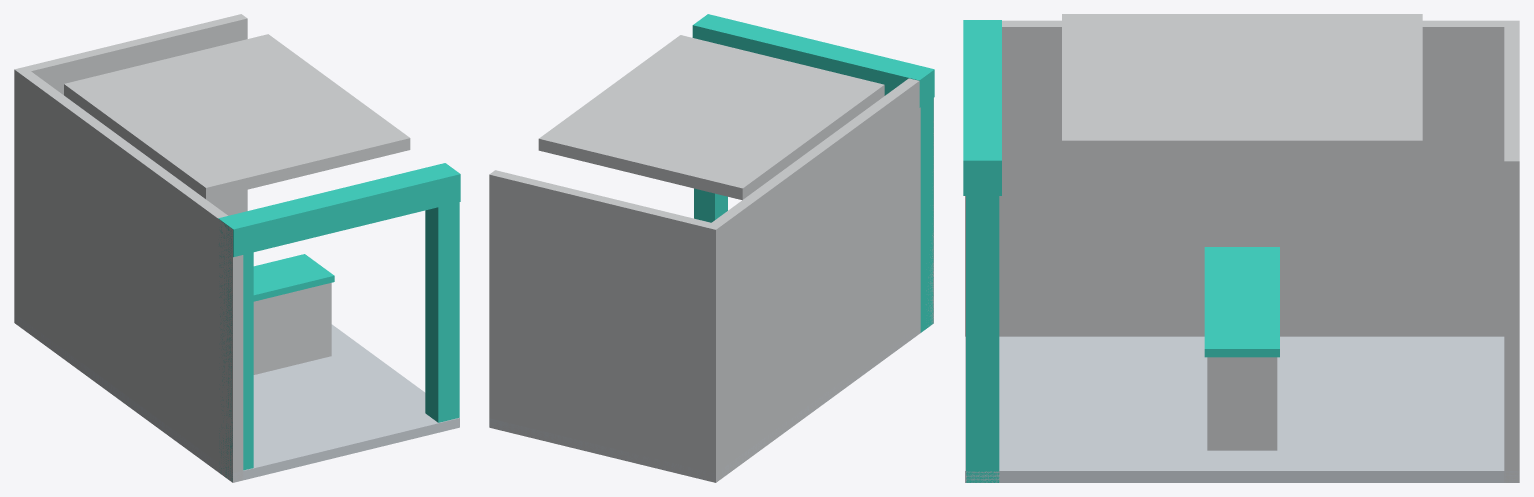
3 renders of one model, left to right at view 1: azimuth 30°, elevation 25°; view 2: azimuth 150°, elevation 25°; view 3: azimuth 270°, elevation 25°, orthographic. The views are drawn at different scales.
Visible parts, largest first — view 1: Exhibition Booth Concept; view 2: Exhibition Booth Concept; view 3: Exhibition Booth Concept.
Boxes of the visible parts, x1,y1,x2,y2 form: Exhibition Booth Concept: (14, 14, 460, 482); Exhibition Booth Concept: (489, 14, 934, 482); Exhibition Booth Concept: (963, 14, 1519, 482).
Size of the model in its own units: 3 by 3.34 by 5.02.
